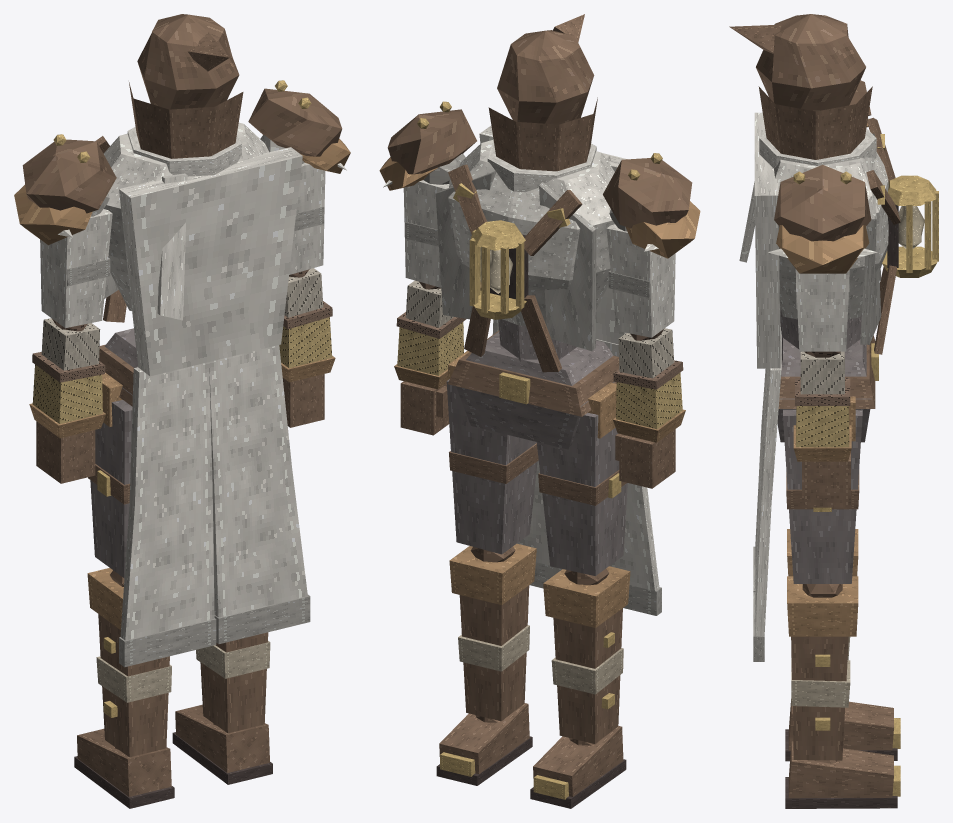
The model's file is shrike.gltf.
The picture shows the model from 3 angles, left to right: view 1: azimuth 30°, elevation 25°; view 2: azimuth 150°, elevation 25°; view 3: azimuth 270°, elevation 25°; orthographic projection. The views are drawn at different scales.
Visible parts, largest first — view 1: coat, coat_l, coat_r, torso, shin_l, head, upper_arm_l, forearm_l, shin_r, thigh_l, foot_l, foot_r (+6 smaller); view 2: torso, coat, pelvis, shin_l, shin_r, thigh_l, thigh_r, head, upper_arm_l, forearm_l, foot_l, foot_r (+7 smaller); view 3: torso, coat, shin_r, head, thigh_r, foot_r, forearm_r, upper_arm_r, coat_r, pelvis, hand_r, foot_l (+4 smaller).
Boxes of the visible parts, left/top/right/bottom form: coat: left=103, top=122, right=302, bottom=376; coat_l: left=119, top=362, right=216, bottom=667; coat_r: left=209, top=345, right=310, bottom=644; torso: left=14, top=80, right=350, bottom=322; shin_l: left=87, top=568, right=171, bottom=757; head: left=137, top=14, right=239, bottom=109; upper_arm_l: left=40, top=193, right=112, bottom=328; forearm_l: left=32, top=318, right=105, bottom=423; shin_r: left=196, top=632, right=270, bottom=733; thigh_l: left=88, top=399, right=132, bottom=578; foot_l: left=74, top=728, right=174, bottom=808; foot_r: left=172, top=704, right=272, bottom=784; torso: left=379, top=97, right=700, bottom=372; coat: left=435, top=126, right=627, bottom=351; pelvis: left=448, top=330, right=619, bottom=449; shin_l: left=543, top=566, right=630, bottom=743; shin_r: left=449, top=543, right=536, bottom=720; thigh_l: left=536, top=413, right=627, bottom=575; thigh_r: left=446, top=379, right=538, bottom=554; head: left=497, top=14, right=594, bottom=124; upper_arm_l: left=606, top=209, right=675, bottom=337; forearm_l: left=613, top=328, right=683, bottom=429; foot_l: left=530, top=726, right=626, bottom=808; foot_r: left=436, top=703, right=532, bottom=785; torso: left=758, top=80, right=938, bottom=354; coat: left=754, top=112, right=888, bottom=368; shin_r: left=787, top=576, right=858, bottom=760; head: left=729, top=14, right=865, bottom=111; thigh_r: left=783, top=409, right=862, bottom=583; foot_r: left=785, top=741, right=900, bottom=808; forearm_r: left=795, top=351, right=850, bottom=447; upper_arm_r: left=795, top=269, right=849, bottom=351; coat_r: left=753, top=336, right=781, bottom=661; pelvis: left=777, top=335, right=878, bottom=442; hand_r: left=793, top=425, right=851, bottom=507; foot_l: left=785, top=699, right=900, bottom=761.
Size of the model in its own units: 0.794 by 1.79 by 0.448.
Materials: 21 (21 with a texture image).
